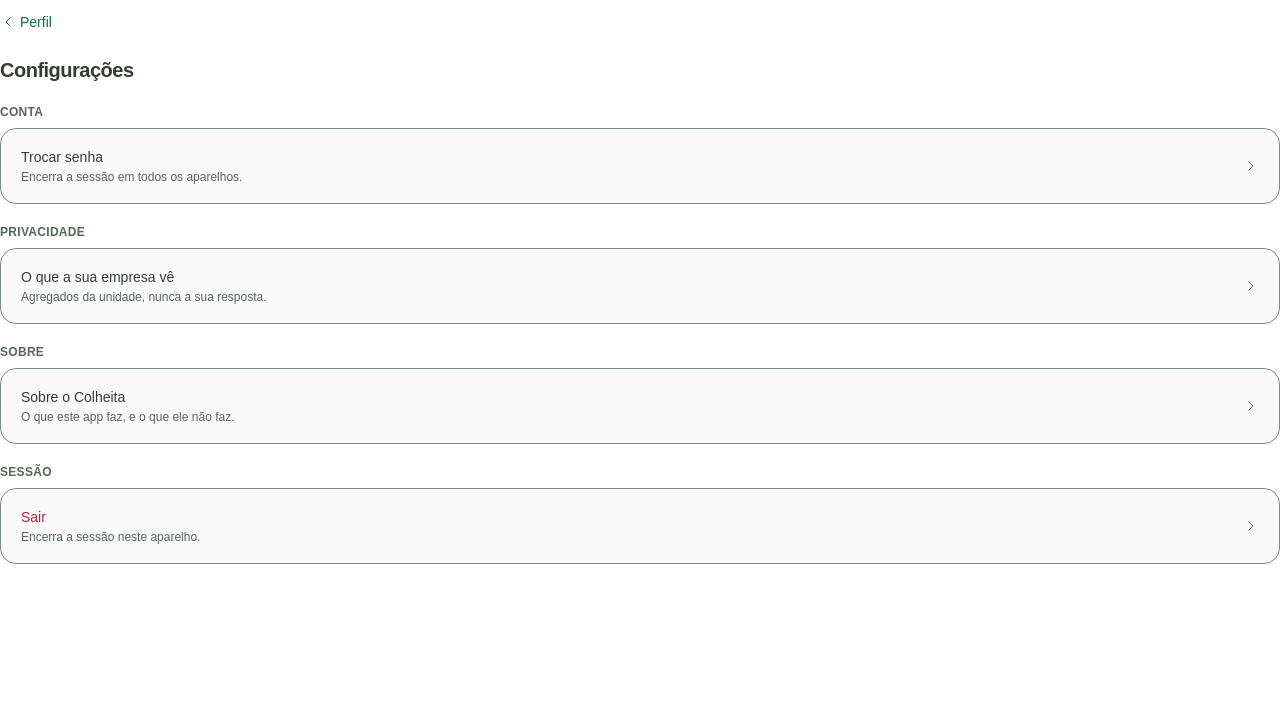
Test: SettingsView › says what the company can and cannot see
Click the button "O que a sua empresa vê" at [98, 277], box [9,257,1271,315]
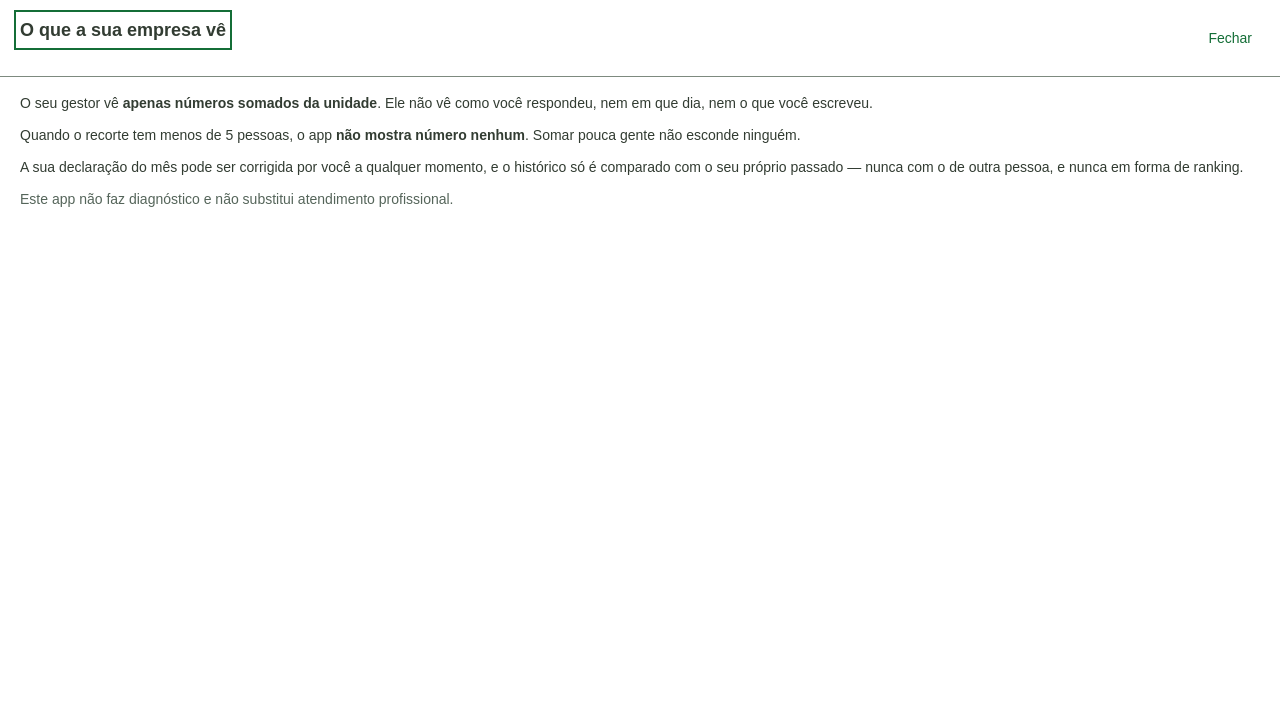
Result: the text "apenas números somados da unidade" is shown at [123,95,377,111]
Result: the text "menos de 5 pessoas" is shown at [20,127,801,143]
